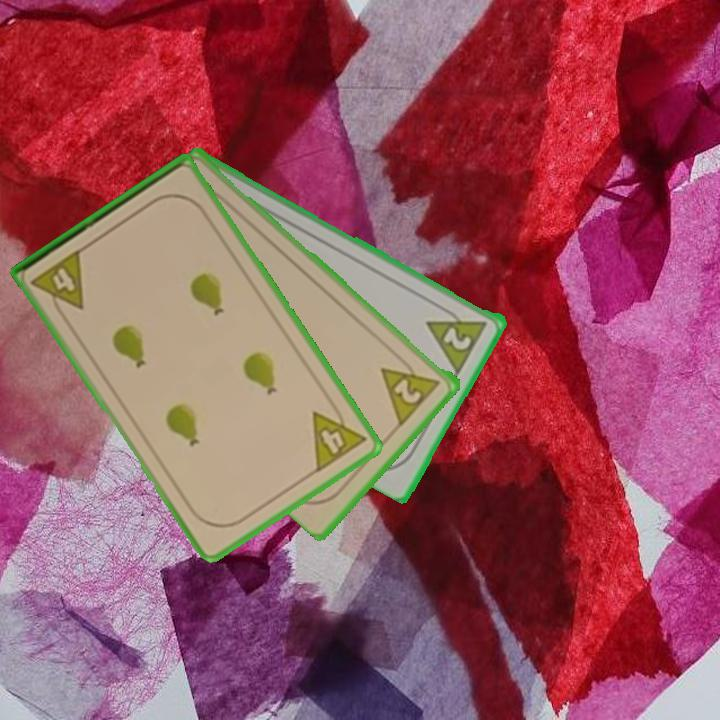2p: (423, 299, 491, 375), (377, 351, 444, 427)
4p: (309, 397, 369, 476), (27, 245, 88, 322)
